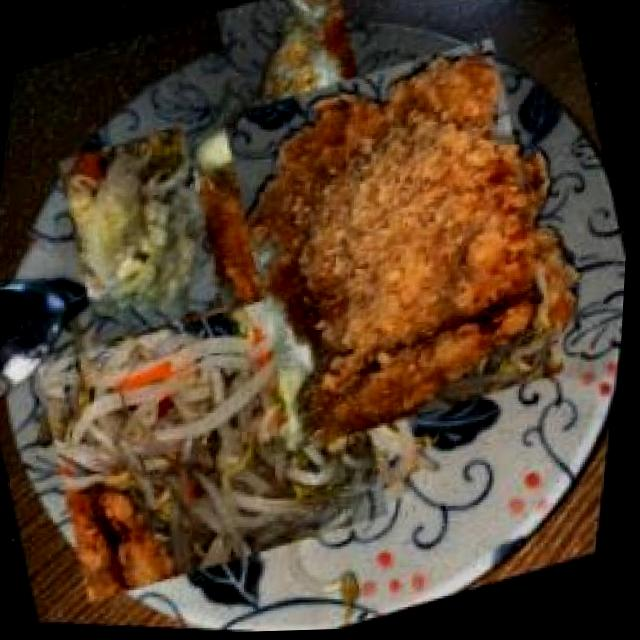chinese_cabbage: (41, 114, 248, 354)
fried_chicken: (176, 31, 618, 465)
fried_eggs: (176, 0, 425, 228)
mung_bean_sprouts: (15, 257, 422, 624)
